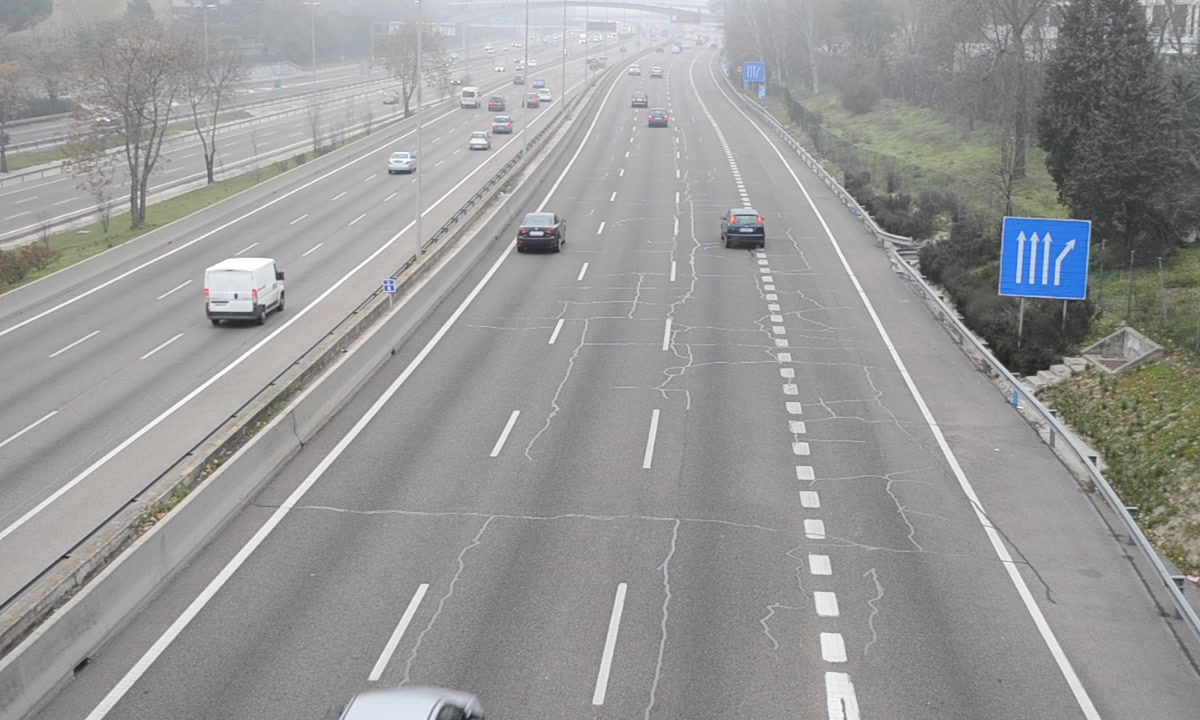car: (518, 213, 565, 251), (722, 209, 766, 246)
